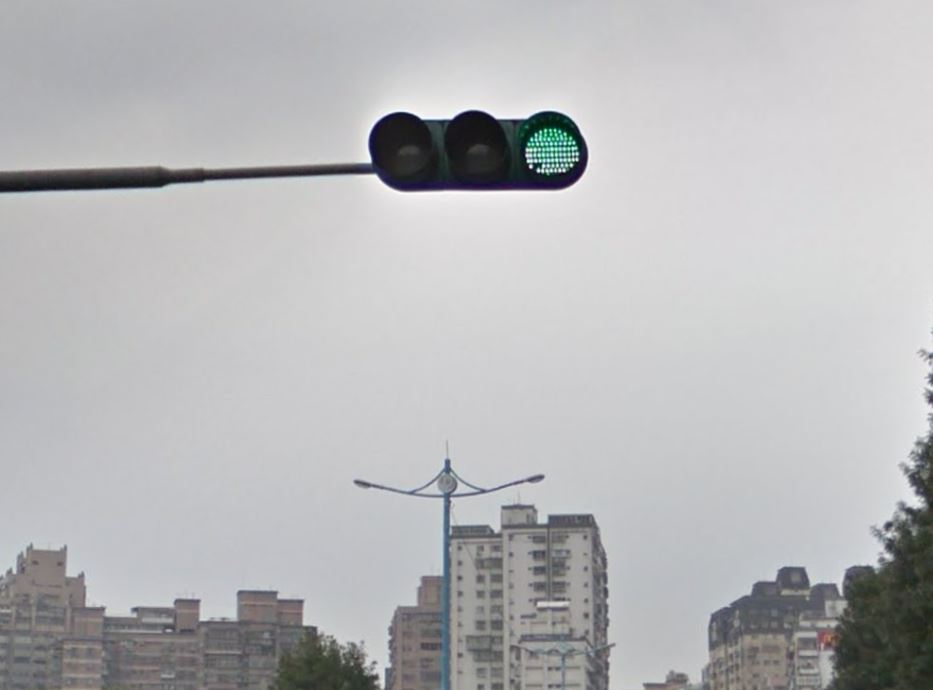Traffic_light_green: (365, 104, 596, 205)
